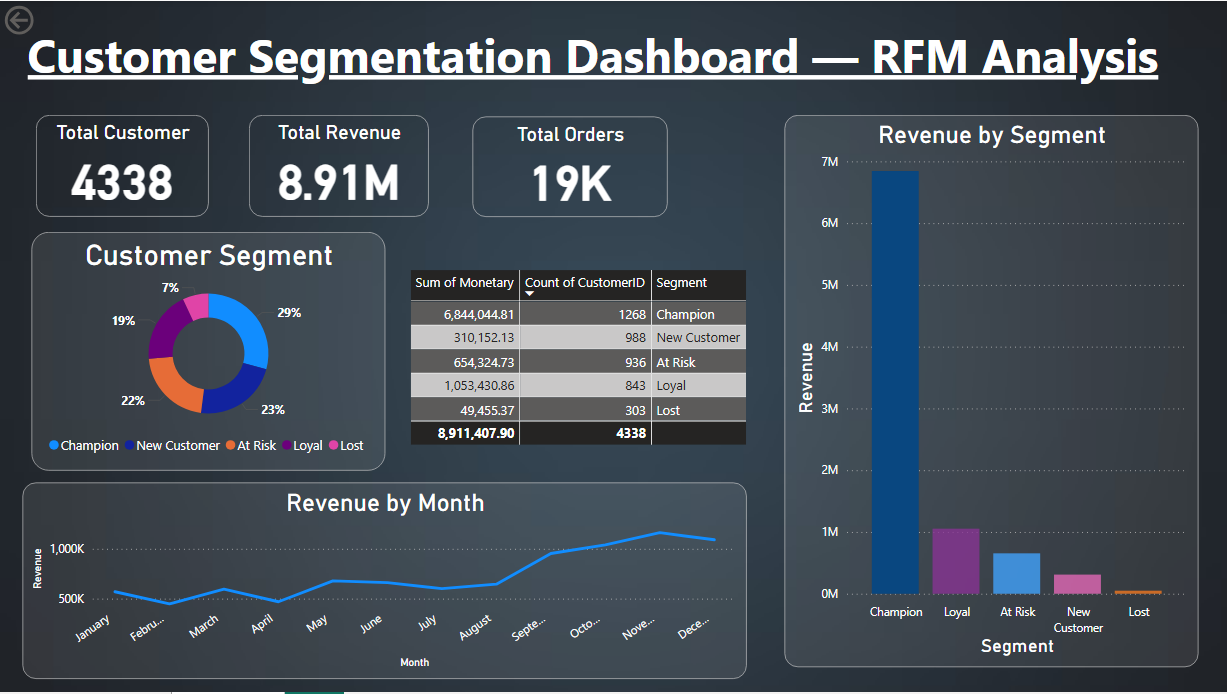

Layout of this report page (visuals, bound fields, positions):
{"tool":"powerbi","page":{"name":"Page 1","canvas":[1280,720],"ordinal":0},"visuals":[{"type":"textbox","box":[23.4,17.2,1189.4,82.8],"z":0},{"type":"donutChart","title":"Customer  Segment","fields":{"Category":["rfm_output.Segment"],"Y":["CountNonNull(rfm_output.CustomerID)"]},"box":[32.8,240.7,368.9,248.5],"z":1000},{"type":"clusteredColumnChart","title":"Revenue by  Segment","fields":{"Category":["rfm_output.Segment"],"Y":["Sum(rfm_output.Monetary)"]},"box":[817.4,118.8,431.4,575.2],"z":2000},{"type":"actionButton","box":[0,0,100,40],"z":3000},{"type":"tableEx","fields":{"Values":["Sum(rfm_output.Monetary)","CountNonNull(rfm_output.CustomerID)","rfm_output.Segment"]},"box":[422,275.1,368.9,226.6],"z":4000},{"type":"card","title":"Total Customer","fields":{"Values":["CountNonNull(rfm_output.CustomerID)"]},"box":[37.5,118.8,179.7,106.3],"z":5000},{"type":"card","title":"Total Revenue","fields":{"Values":["Sum(rfm_output.Monetary)"]},"box":[259.5,118.8,187.6,106.3],"z":6000},{"type":"card","title":"Total Orders","fields":{"Values":["Sum(rfm_output.Frequency)"]},"box":[492.3,120.4,203.2,104.7],"z":7000},{"type":"lineChart","title":"Revenue by Month","fields":{"Category":["monthly_revenue.Month.Variation.Date Hierarchy.Month"],"Y":["Sum(monthly_revenue.Revenue)"]},"box":[23.4,501.7,754.9,204.8],"z":8000}]}

Visuals, with their boxes in screenshot pixels (x1, y1, x2, y2), scaled from the page's 1280x720 canvas onto the 1227x694 screenshot:
textbox: box(22, 17, 1163, 96)
"Customer  Segment" donutChart: box(31, 232, 385, 472)
"Revenue by  Segment" clusteredColumnChart: box(784, 115, 1197, 669)
actionButton: box(0, 0, 96, 39)
tableEx - Sum(rfm_output.Monetary) x CountNonNull(rfm_output.CustomerID): box(405, 265, 758, 484)
"Total Customer" card: box(36, 115, 208, 217)
"Total Revenue" card: box(249, 115, 429, 217)
"Total Orders" card: box(472, 116, 667, 217)
"Revenue by Month" lineChart: box(22, 484, 746, 681)
